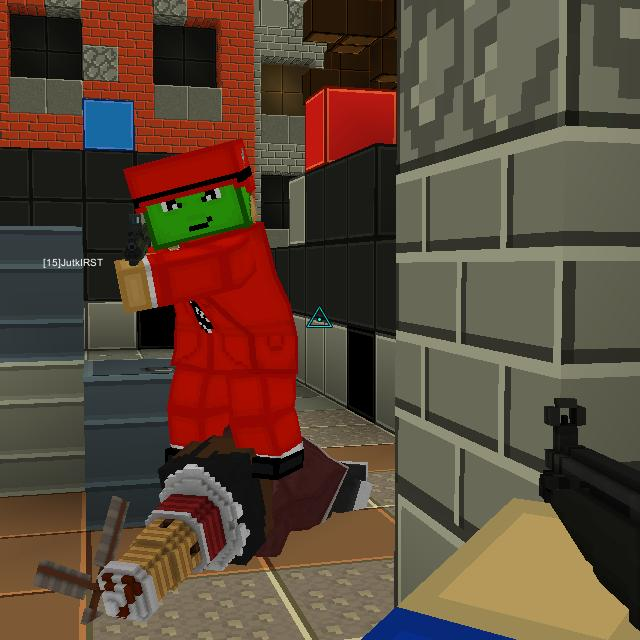enemy: (108, 135, 317, 481)
